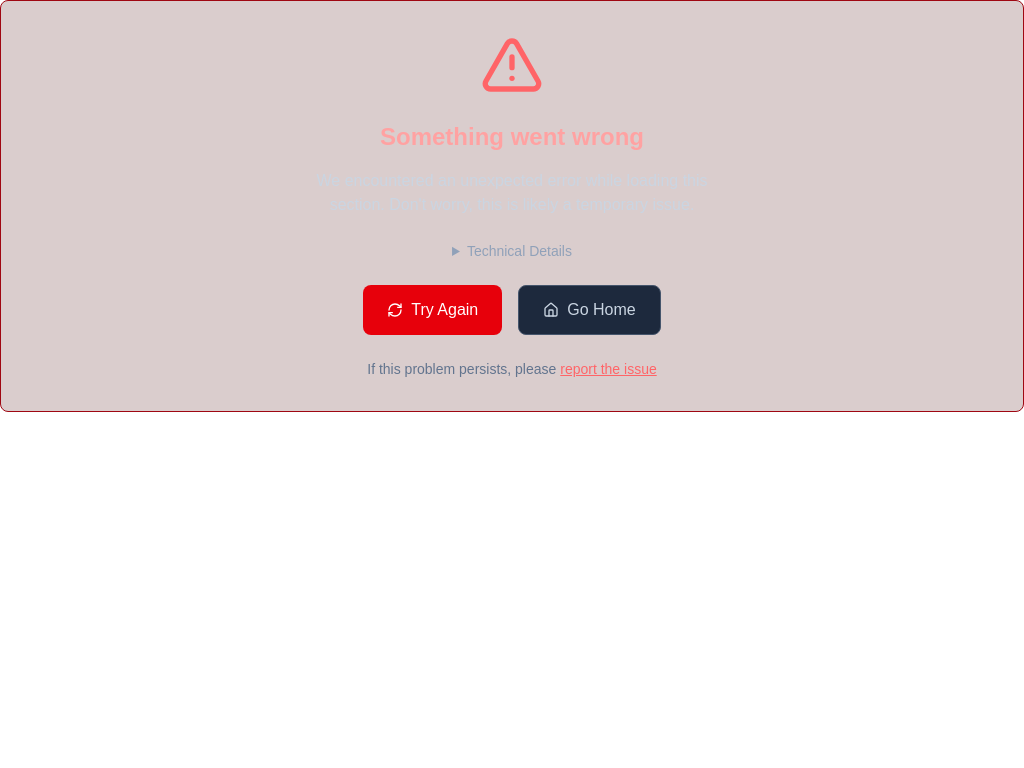
Test: ErrorBoundary › shows technical details when showDetails is true
This screenshot has width=1024, height=768.
// Click to expand details
Click the heading "Technical Details" at {"x": 512, "y": 251}, box [452, 241, 572, 261]
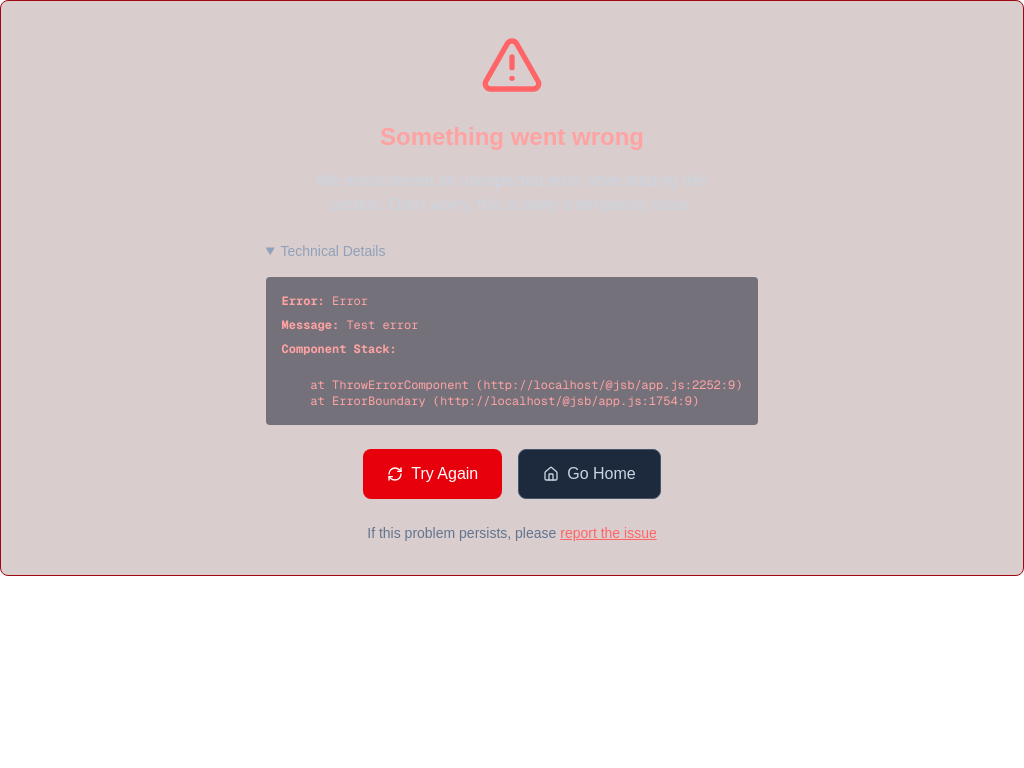
Now the text "Test error" is shown, box [346, 317, 418, 333]
